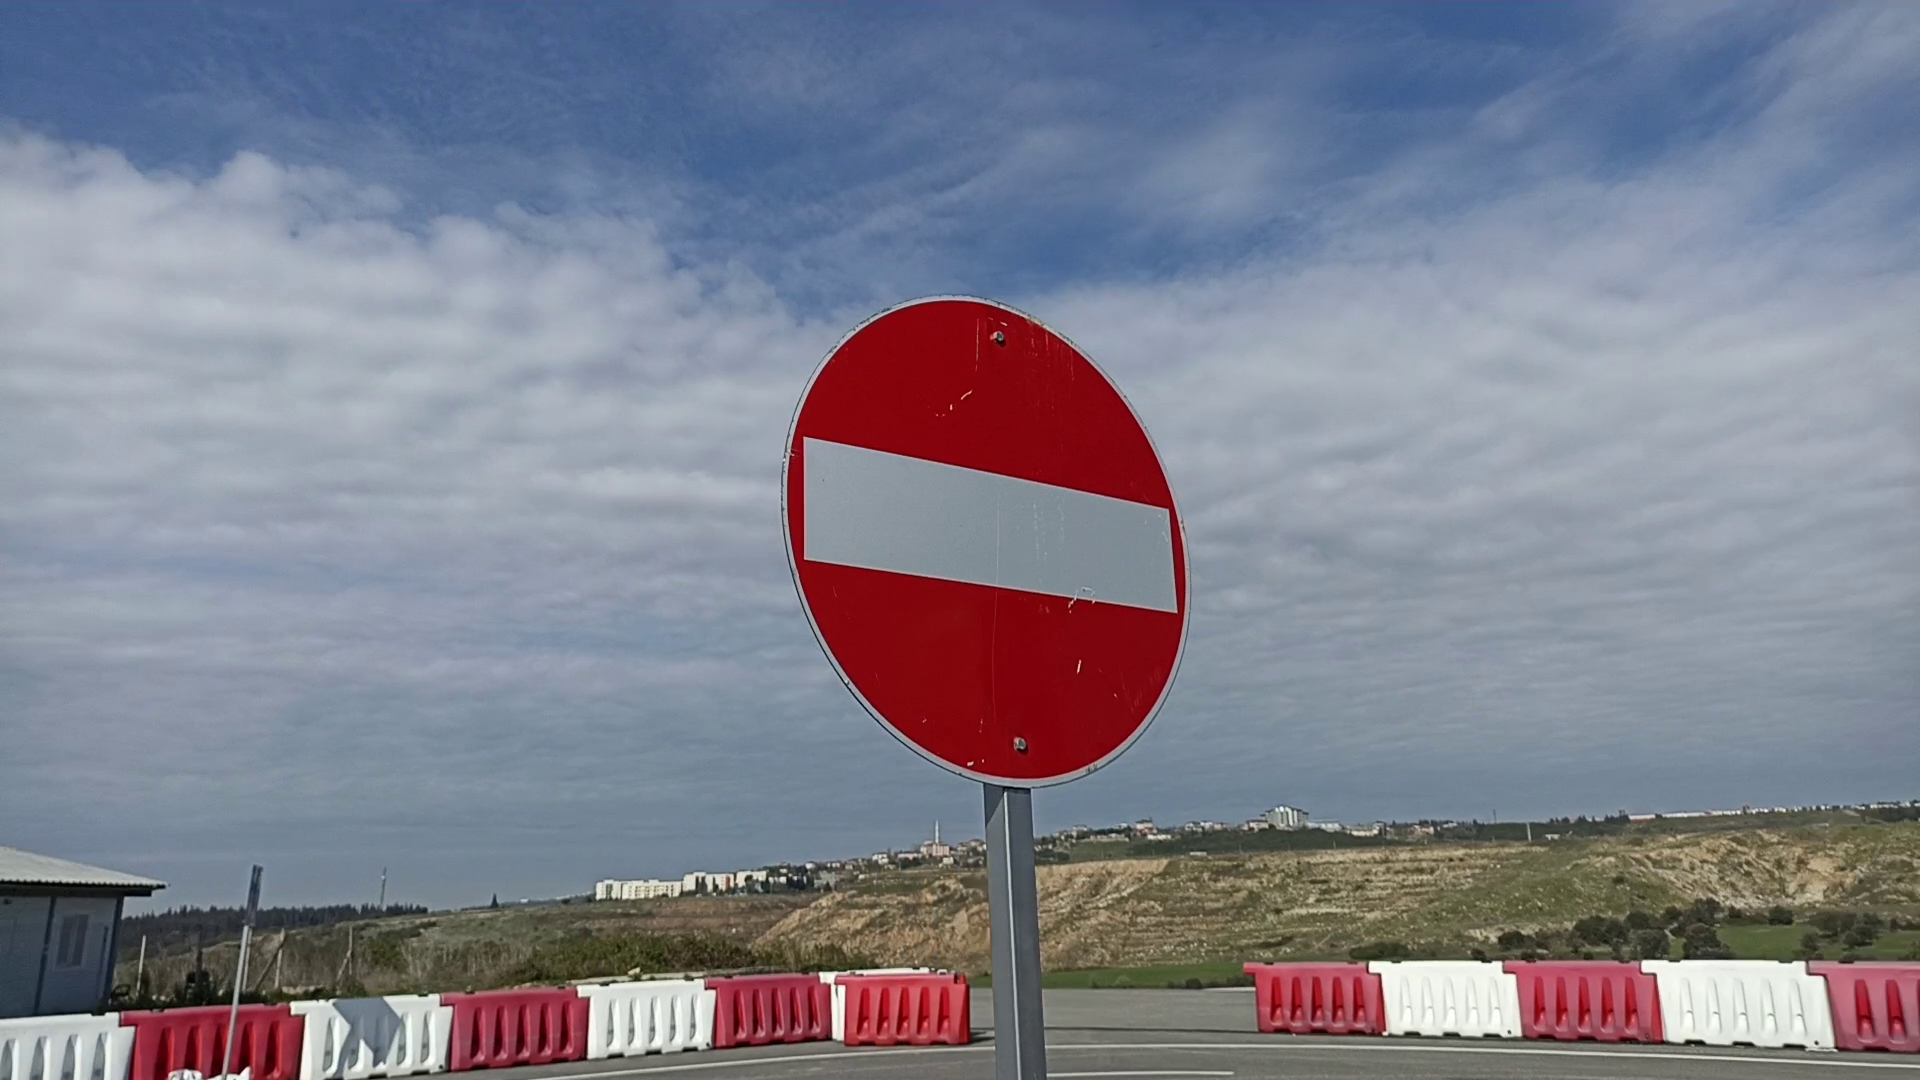noentryway: (769, 284, 1205, 795)
